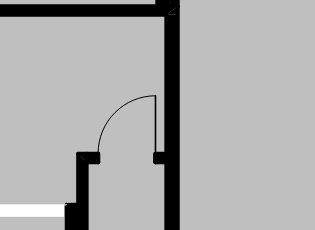door: (95, 92, 158, 165)
